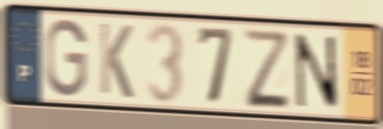3: (145, 17, 188, 110)
7: (195, 24, 237, 108)
G: (43, 16, 89, 100)
K: (97, 20, 135, 102)
N: (292, 30, 342, 112)
Z: (240, 25, 292, 110)
